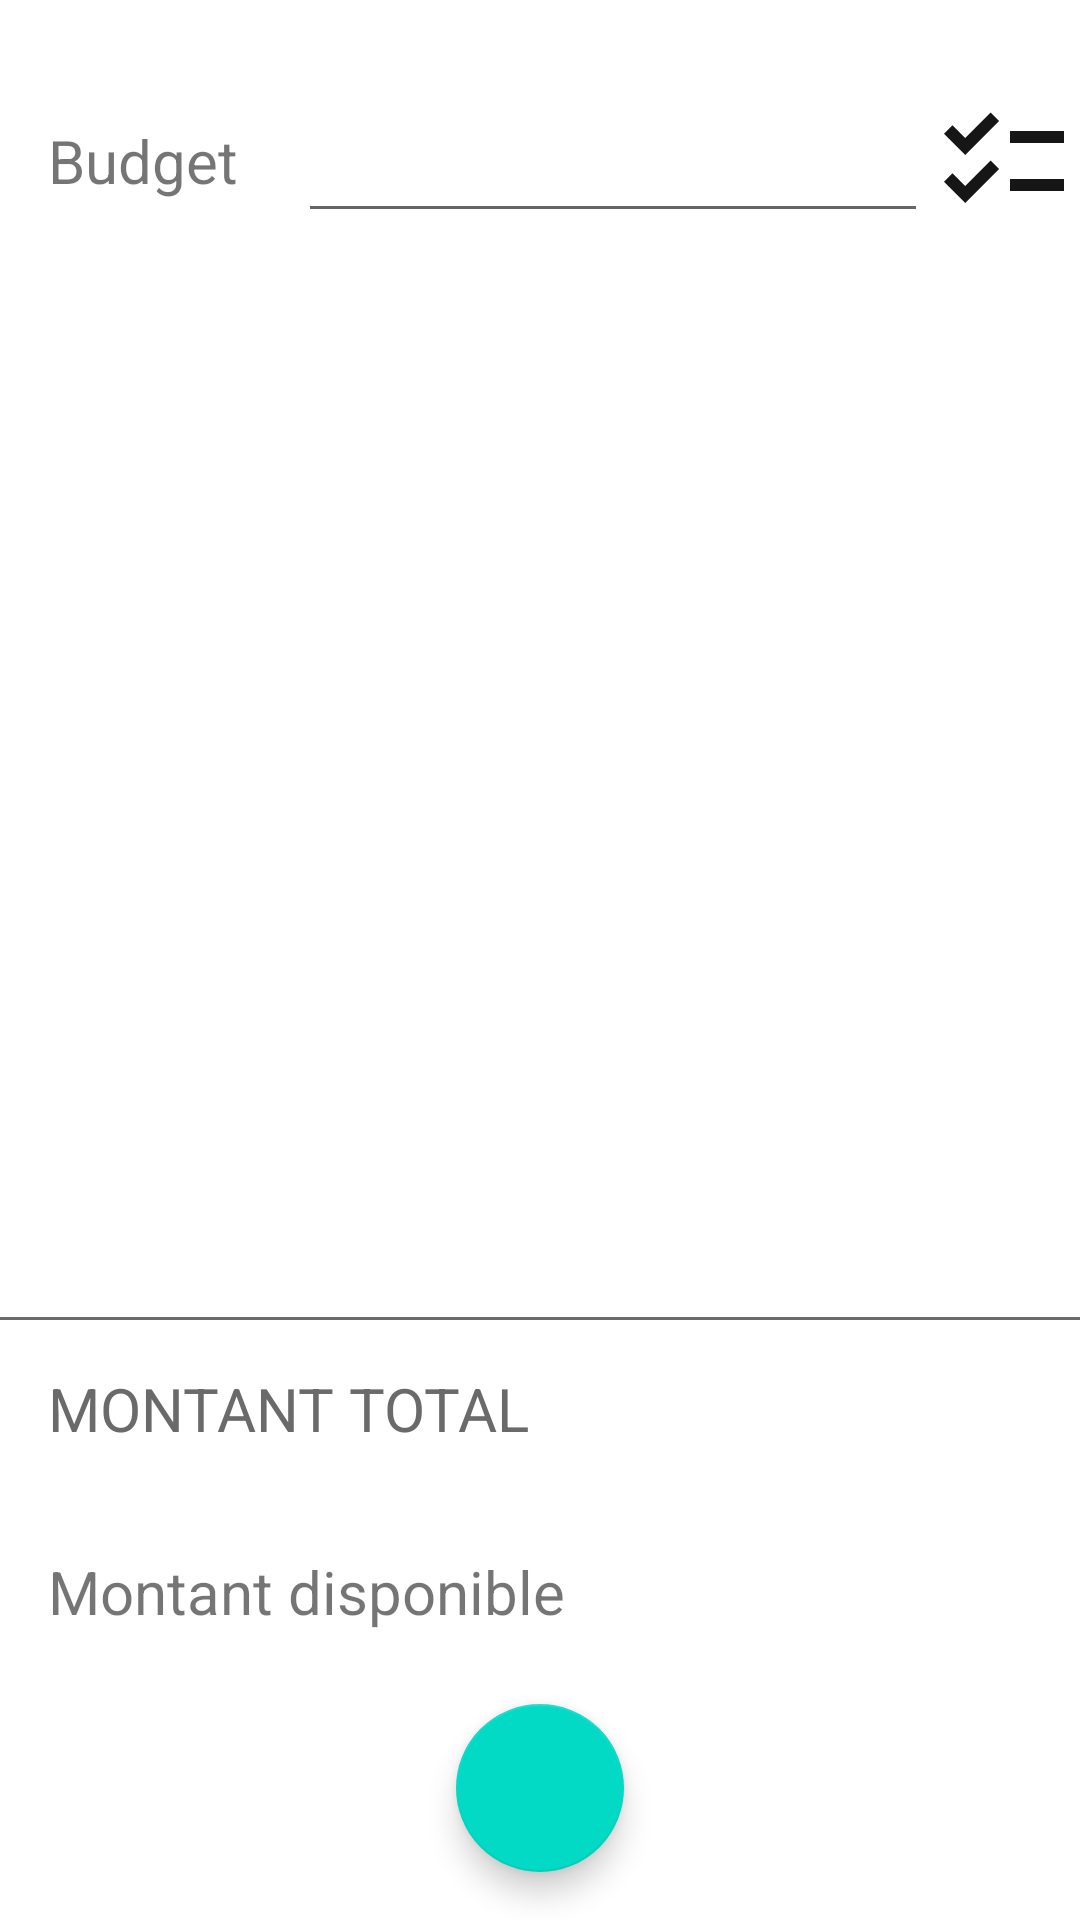

Icons on this 1080px×1920px Android screen, each with the point to tap as [x,y]:
check: [1004,157]
